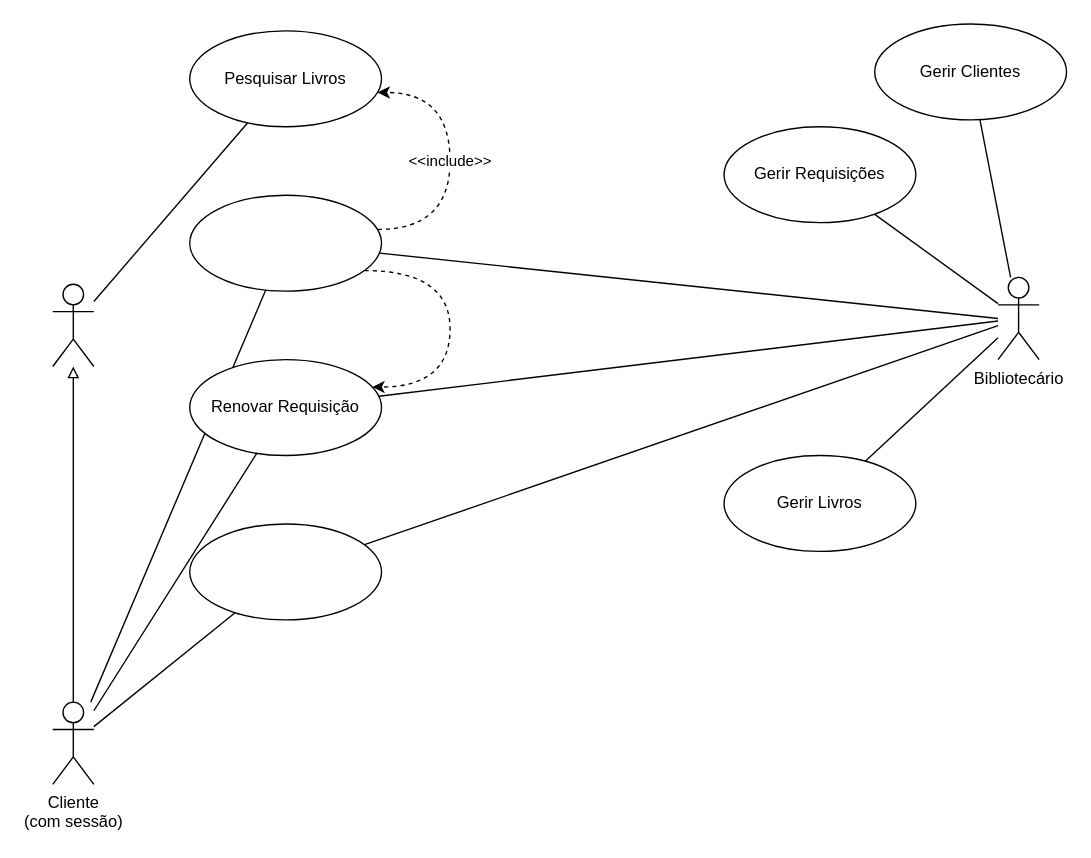
The diagram is 1091 pixels wide and 858 high, and some of its shapes have lost their labels. The box of each missing label's shape, as (x1, y1, x2, y2) in pixels:
Cliente: (51, 283, 94, 366)
Devolver Livros: (188, 523, 382, 620)
Requisição do Livro: (188, 194, 382, 291)
